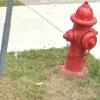a fire hydrant: (63, 4, 97, 74)
